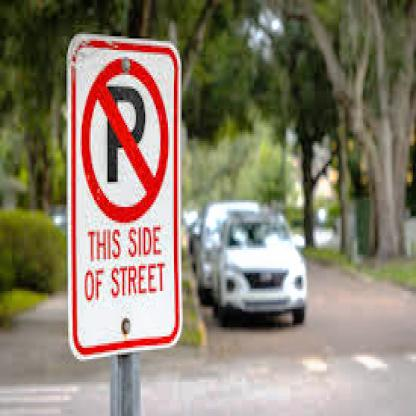No parking: (82, 51, 172, 223)
